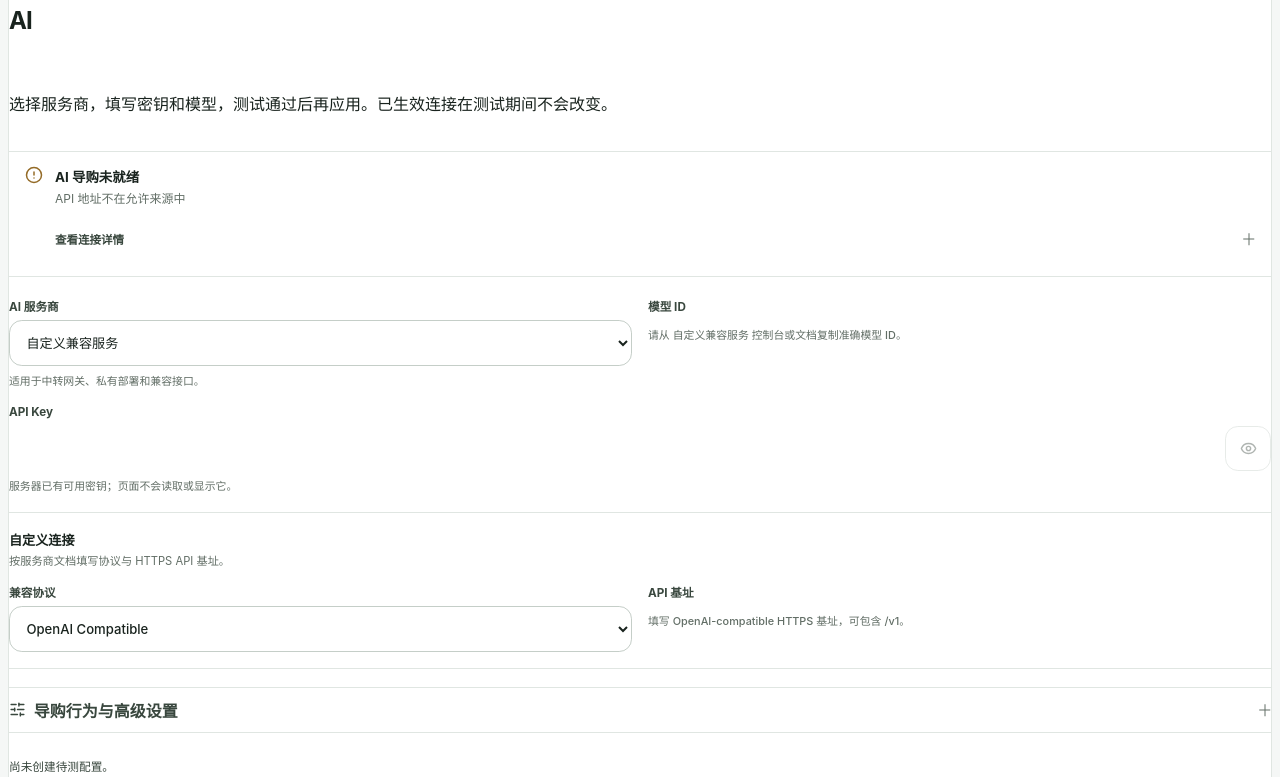
Test: PlatformAiConfigPanel provider-first configuration › keeps advanced controls collapsed but keyboard-reachable
The image size is (1280, 777).
expect the dropdown labelled "AI 服务商" is shown: met, box [9,320,632,366]
expect the field labelled "补充指引（可选）" is not shown: met
Click the heading "导购行为与高级设置". click: (106, 711)
box: [9,701,1271,721]
(page scrolled)
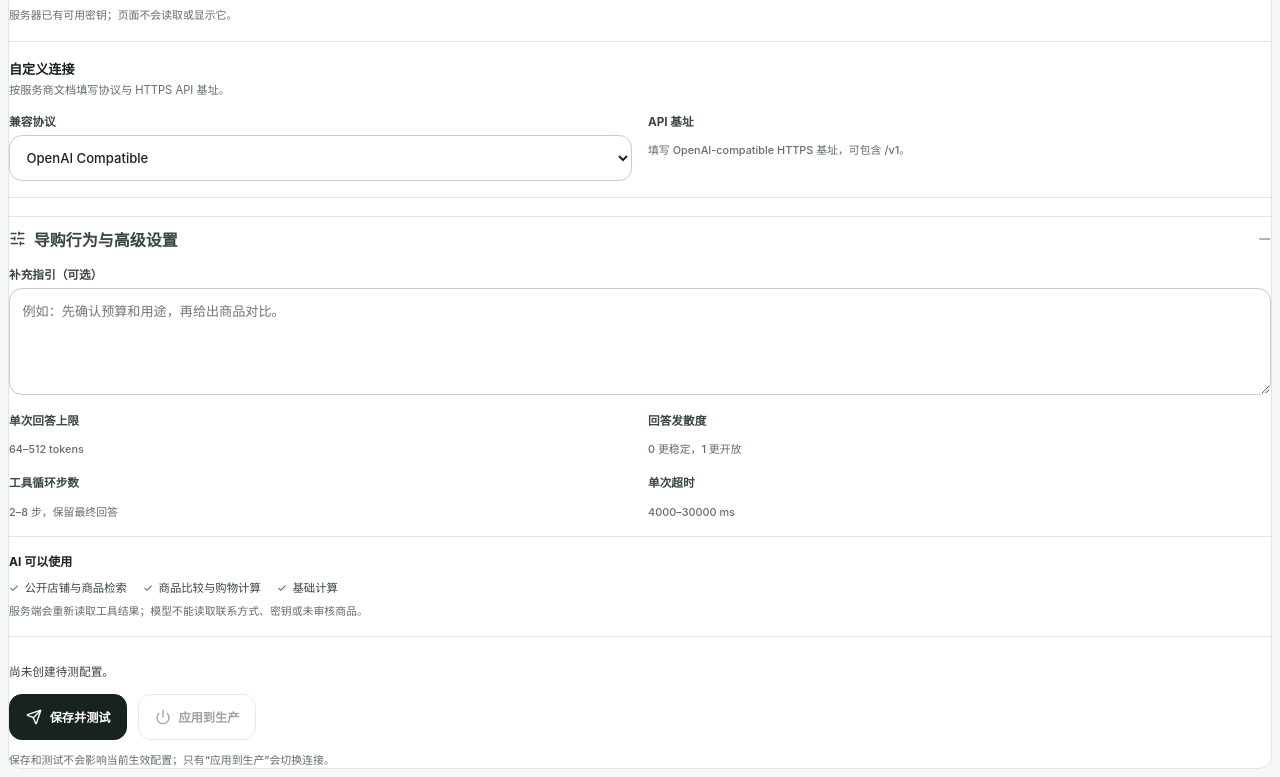
expect the text box labelled "补充指引（可选）" is shown: met, box [9,288,1271,395]
expect the list item "公开店铺与商品检索" is shown: met, box [9,579,127,595]
